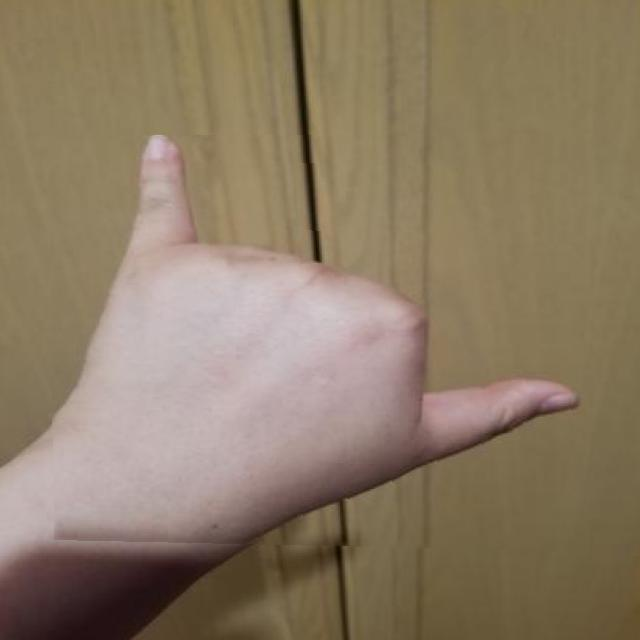Y: (48, 135, 590, 552)
